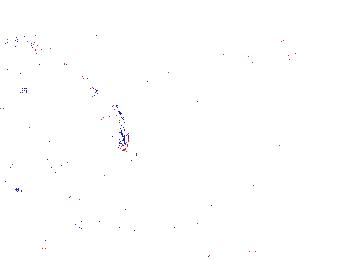X-ray fish: (238, 53, 263, 71), (274, 51, 290, 72)
glassfish: (80, 68, 131, 162)
redtail glassfish: (6, 32, 46, 55)
